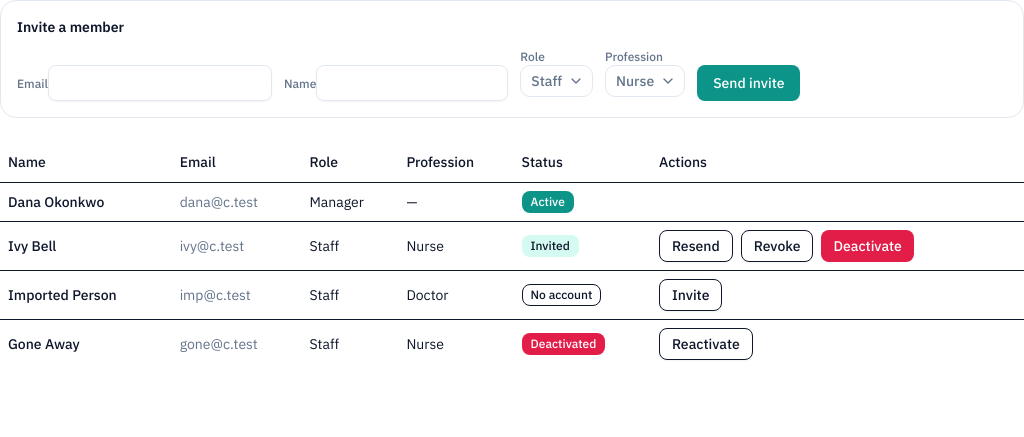
MembersTable reactivation › surfaces a failure inline rather than silently doing nothing
Step 1. Click the button "Reactivate" → point(706, 344), box [659,328,753,360]
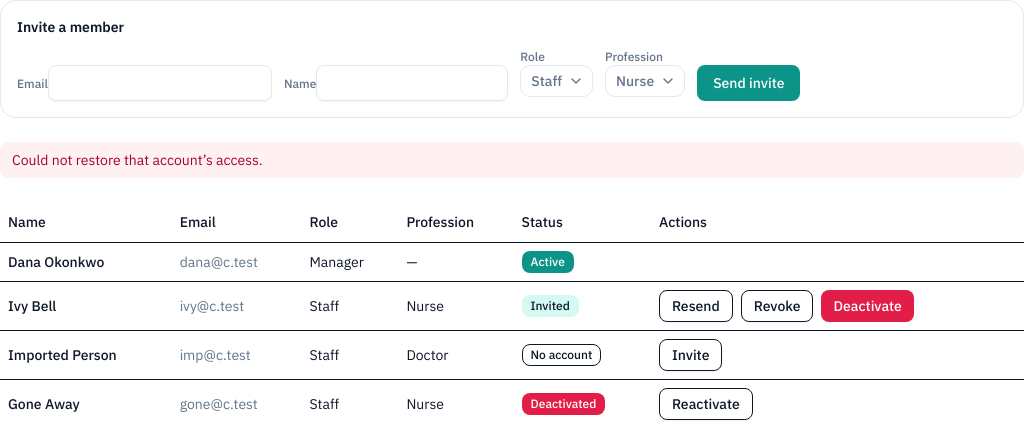
Check: the message shows "Could not restore", box [12,151,262,169]
